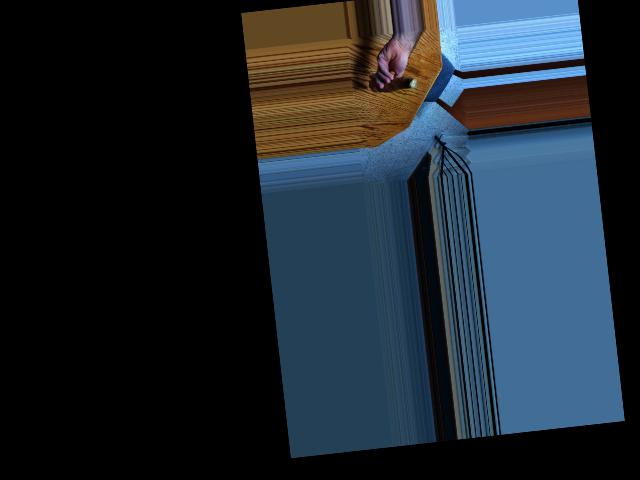sweet_potato: (367, 70, 418, 94)
